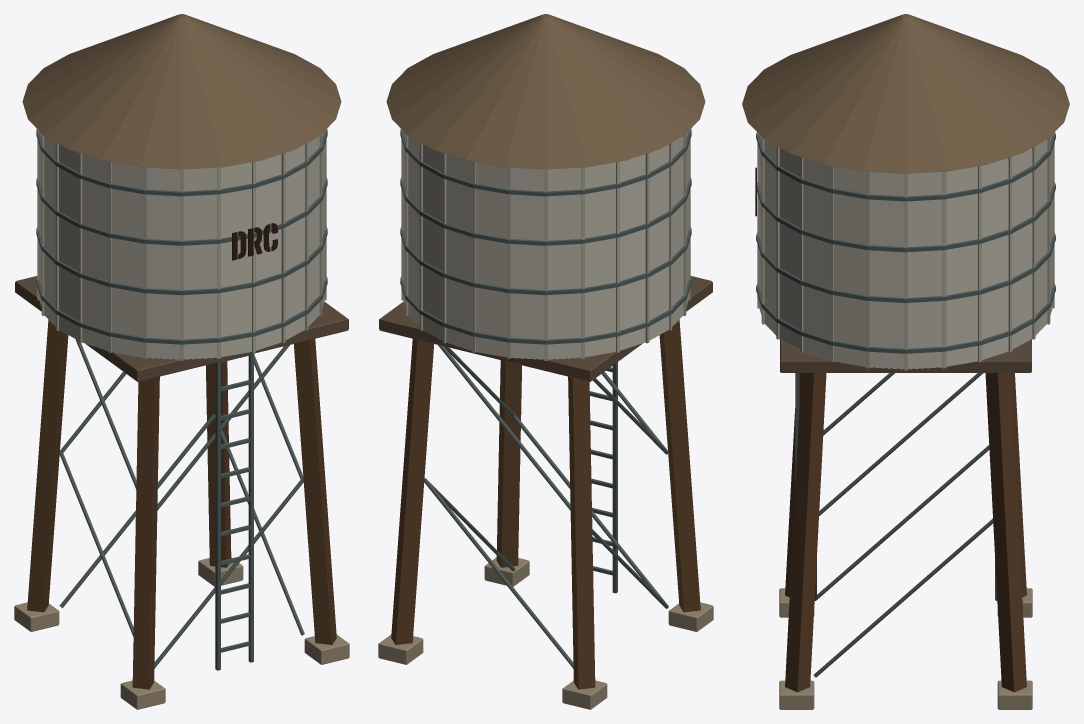
The model's file is WaterTower.glb.
3 views of the same model, side by side, from view 1: azimuth 30°, elevation 25°; view 2: azimuth 150°, elevation 25°; view 3: azimuth 270°, elevation 25° (orthographic). The views are drawn at different scales.
Visible parts, largest first — view 1: WaterTower.001; view 2: WaterTower.001; view 3: WaterTower.001.
Boxes of the visible parts, x1,y1,x2,y2 form: WaterTower.001: (14, 14, 349, 709); WaterTower.001: (378, 14, 713, 709); WaterTower.001: (742, 14, 1069, 709).
Size of the model in its own units: 4.68 by 10.11 by 4.68.
